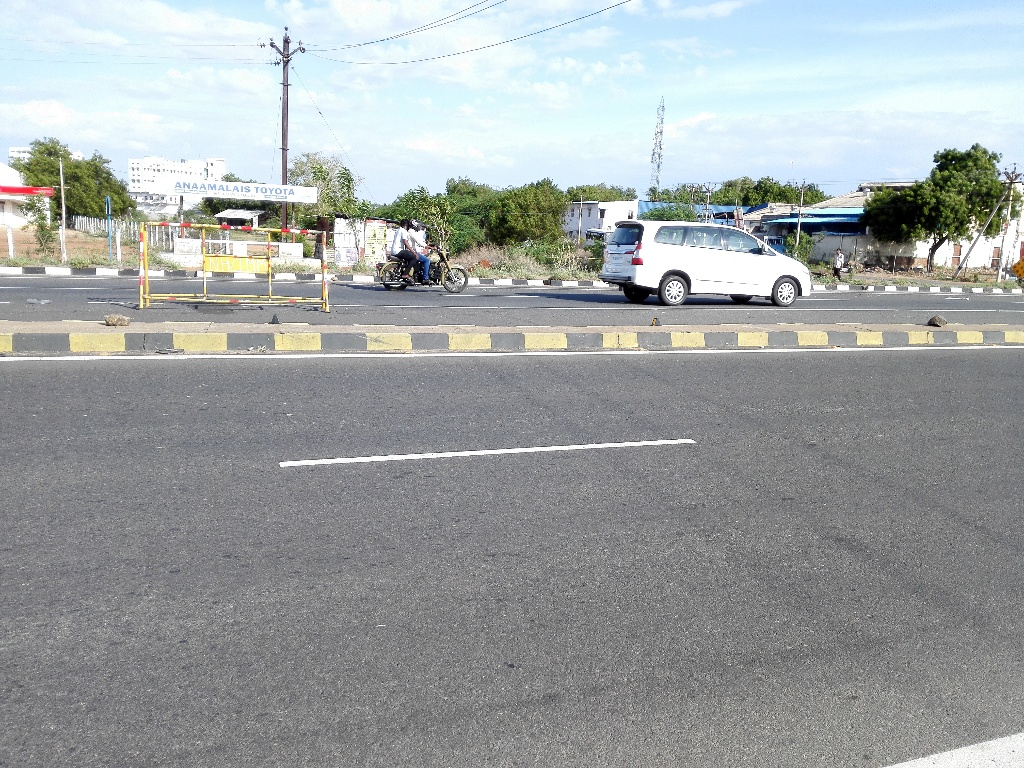biker: (367, 192, 477, 301)
helmet: (411, 212, 428, 235)
nohelmet: (398, 214, 412, 235)
